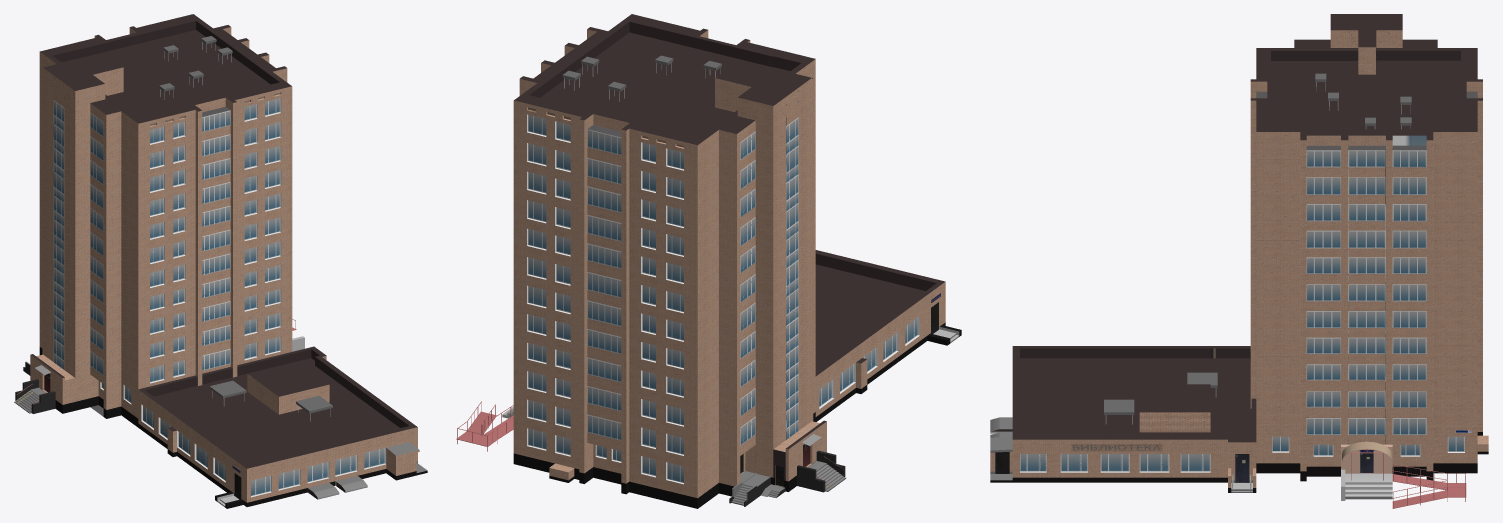
Rendered from LuarPerpus.glb.
The picture shows the model from 3 angles, left to right: view 1: azimuth 30°, elevation 25°; view 2: azimuth 150°, elevation 25°; view 3: azimuth 270°, elevation 25°; orthographic projection. The views are drawn at different scales.
Parts seen in each view (by area): view 1: Object_8, Object_4, Object_3, Object_13, Object_11; view 2: Object_8, Object_4, Object_11, Object_3, Object_5, Object_13; view 3: Object_4, Object_8, Object_3, Object_5, Object_13, Object_11, Object_2.
Part boxes in pixels (x1,y1,x2,y2): Object_8: (30,27,419,502); Object_4: (31,14,427,508); Object_3: (43,60,329,396); Object_13: (159,36,332,413); Object_11: (14,336,304,413); Object_8: (513,29,945,498); Object_4: (513,14,961,508); Object_11: (502,406,846,506); Object_3: (738,69,811,105); Object_5: (456,401,843,482); Object_13: (562,55,721,91); Object_4: (990,30,1488,492); Object_8: (990,30,1488,487); Object_3: (1139,14,1402,412); Object_5: (1350,449,1466,508); Object_13: (1104,73,1411,414); Object_11: (1341,469,1392,500); Object_2: (1071,444,1162,451).
Bounding box in the file's own units: 33.55 × 35.75 × 44.99.
11 materials, 4 textured.
